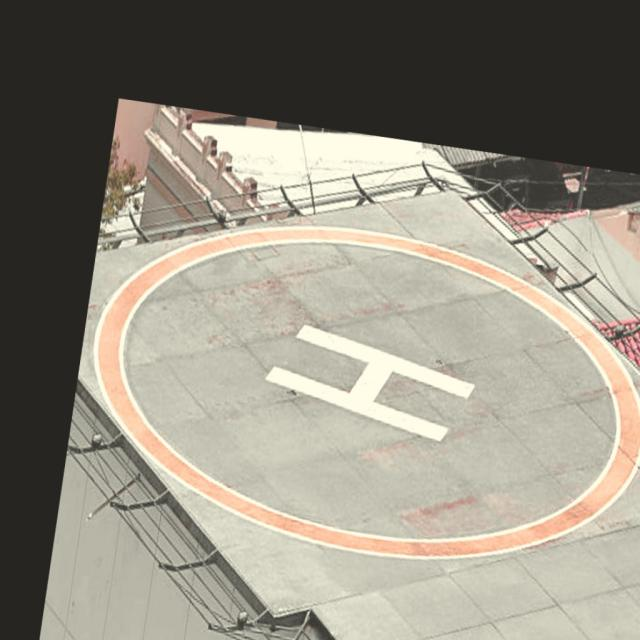helipad: (86, 212, 640, 572)
